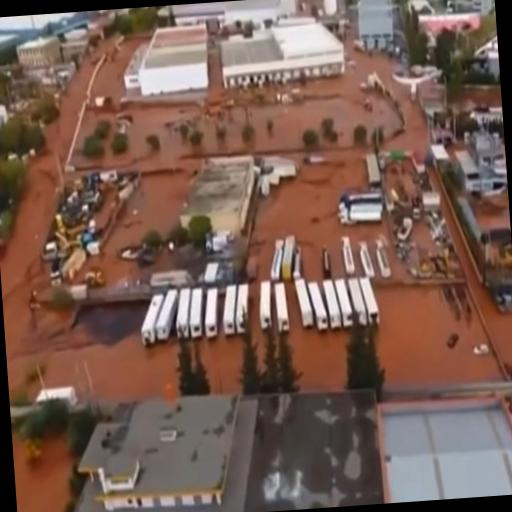flood: (199, 43, 512, 385), (0, 37, 179, 404), (82, 42, 226, 298), (430, 168, 505, 331), (288, 283, 350, 390), (12, 434, 72, 512), (191, 334, 242, 394), (70, 108, 117, 171), (385, 98, 430, 156), (250, 200, 287, 270), (468, 189, 511, 230), (411, 224, 433, 251), (258, 267, 270, 279)
house: (78, 385, 276, 512), (377, 378, 512, 503), (220, 18, 342, 100), (138, 22, 216, 98), (354, 0, 399, 58)
